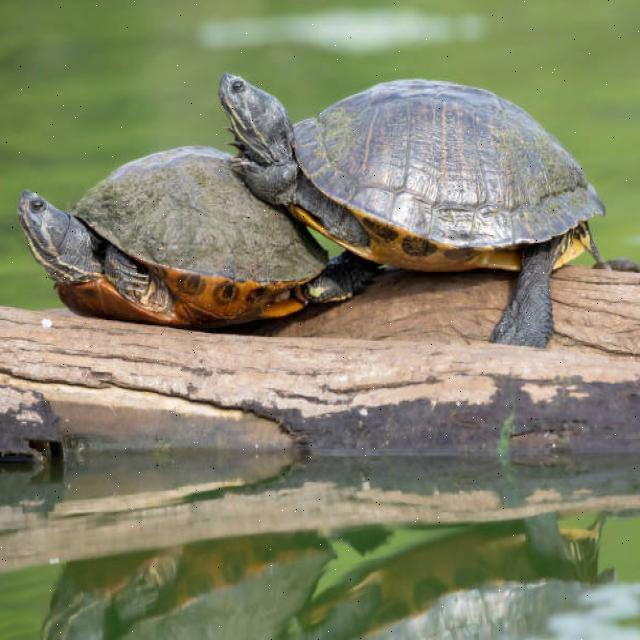tortoise: (206, 53, 614, 357), (6, 148, 348, 344)
